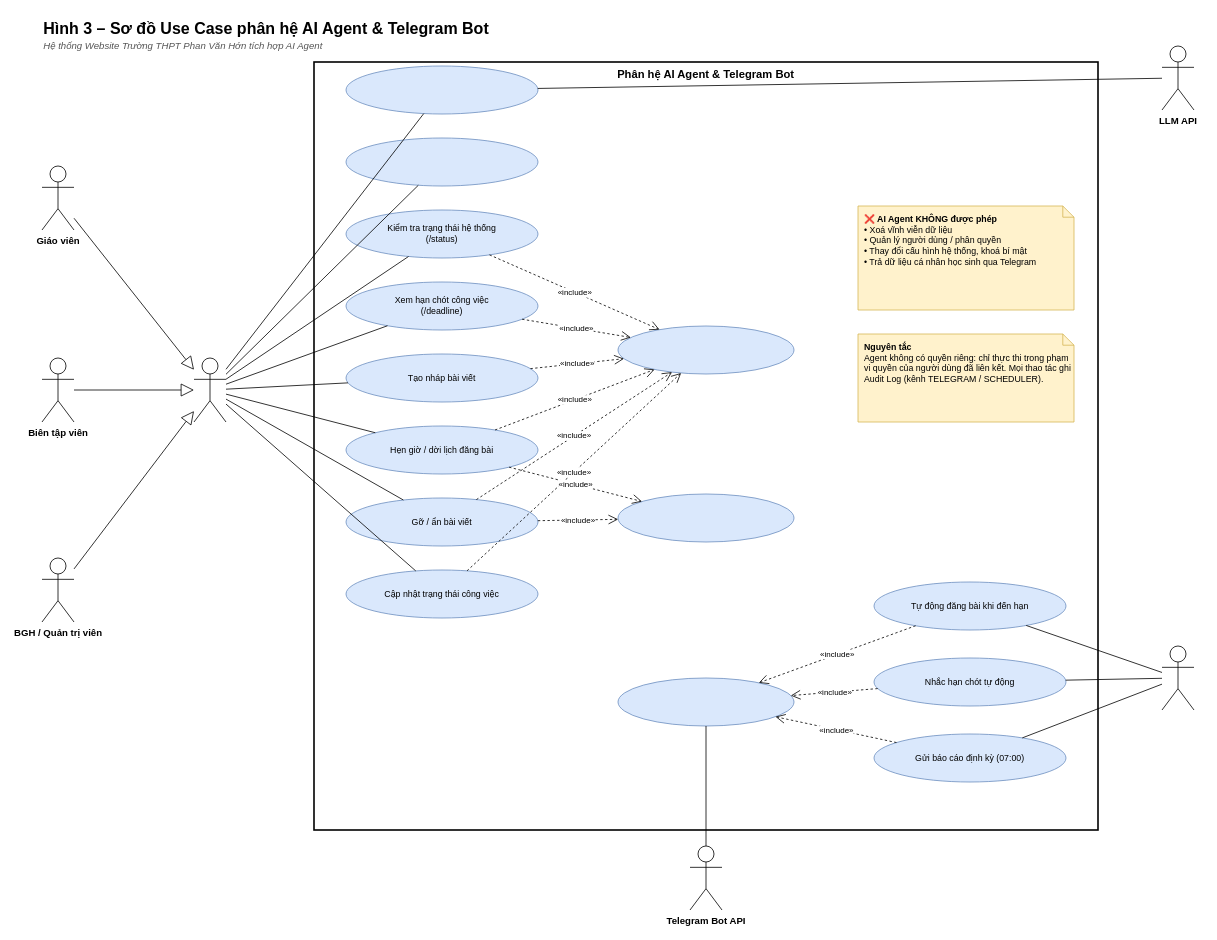
The diagram is 1217 pixels wide and 940 high, and some of its shapes have lost their labels. Each missing label, with the centre of its shape:
Chat ngôn ngữ tự nhiên với AI Agent: pixel 441 89
Gửi tin nhắn Telegram: pixel 705 701
Kiểm tra quyền (RBAC): pixel 705 349
Liên kết / huỷ liên kết tài khoản: pixel 441 161
Người dùng Telegram (đã liên kết): pixel 209 389
Scheduler (Thời gian): pixel 1177 677
Xác nhận thao tác [Xác nhận] / [Huỷ]: pixel 705 517
